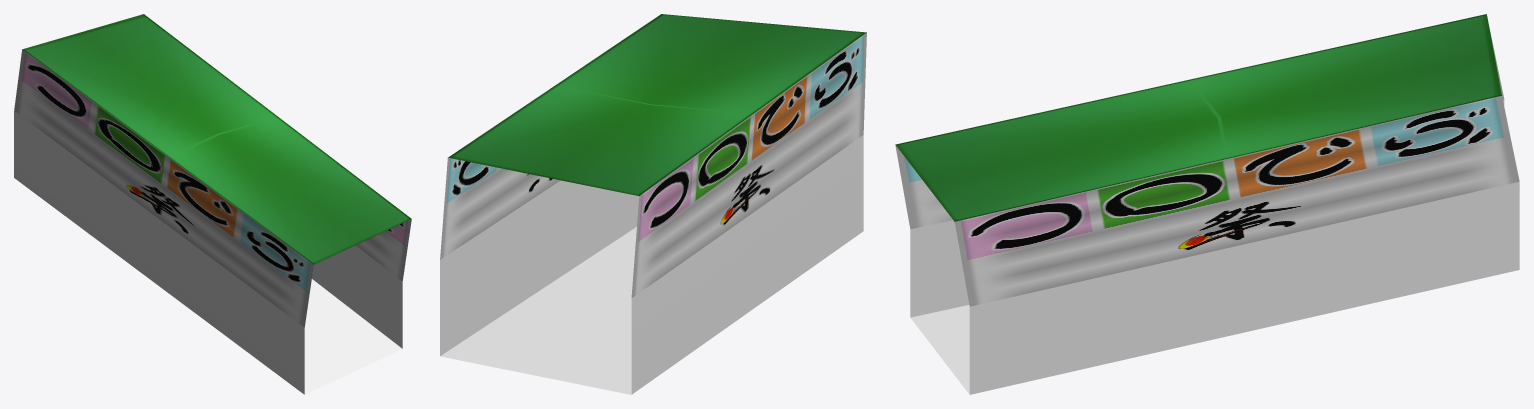
Rendered from CourseWinter_Wall_R_8_1.fbx.
3 renders of one model, left to right at view 1: azimuth 30°, elevation 25°; view 2: azimuth 150°, elevation 25°; view 3: azimuth 270°, elevation 25°, orthographic. The views are drawn at different scales.
Visible parts, largest first — view 1: polySurface493; view 2: polySurface493; view 3: polySurface493.
Part boxes in pixels (left/top/right/bottom): polySurface493: left=14, top=14, right=411, bottom=394; polySurface493: left=440, top=14, right=866, bottom=394; polySurface493: left=895, top=14, right=1519, bottom=394.
Size of the model in its own units: 2.94 by 2.98 by 6.41.
1 material, 1 textured.
